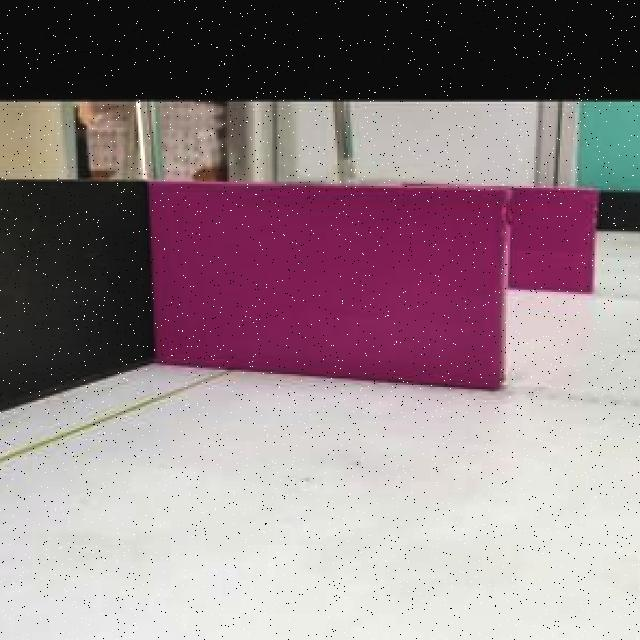xparking: (152, 182, 502, 390), (514, 190, 592, 292)
